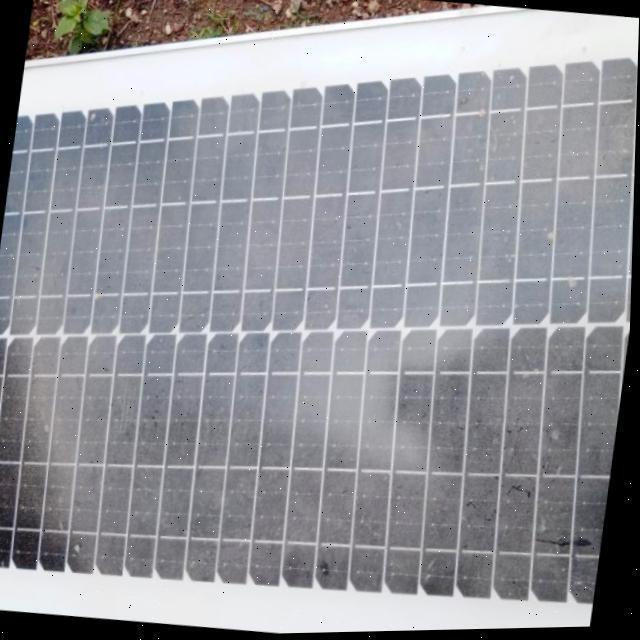Surface Contaminant: (0, 95, 636, 630)
